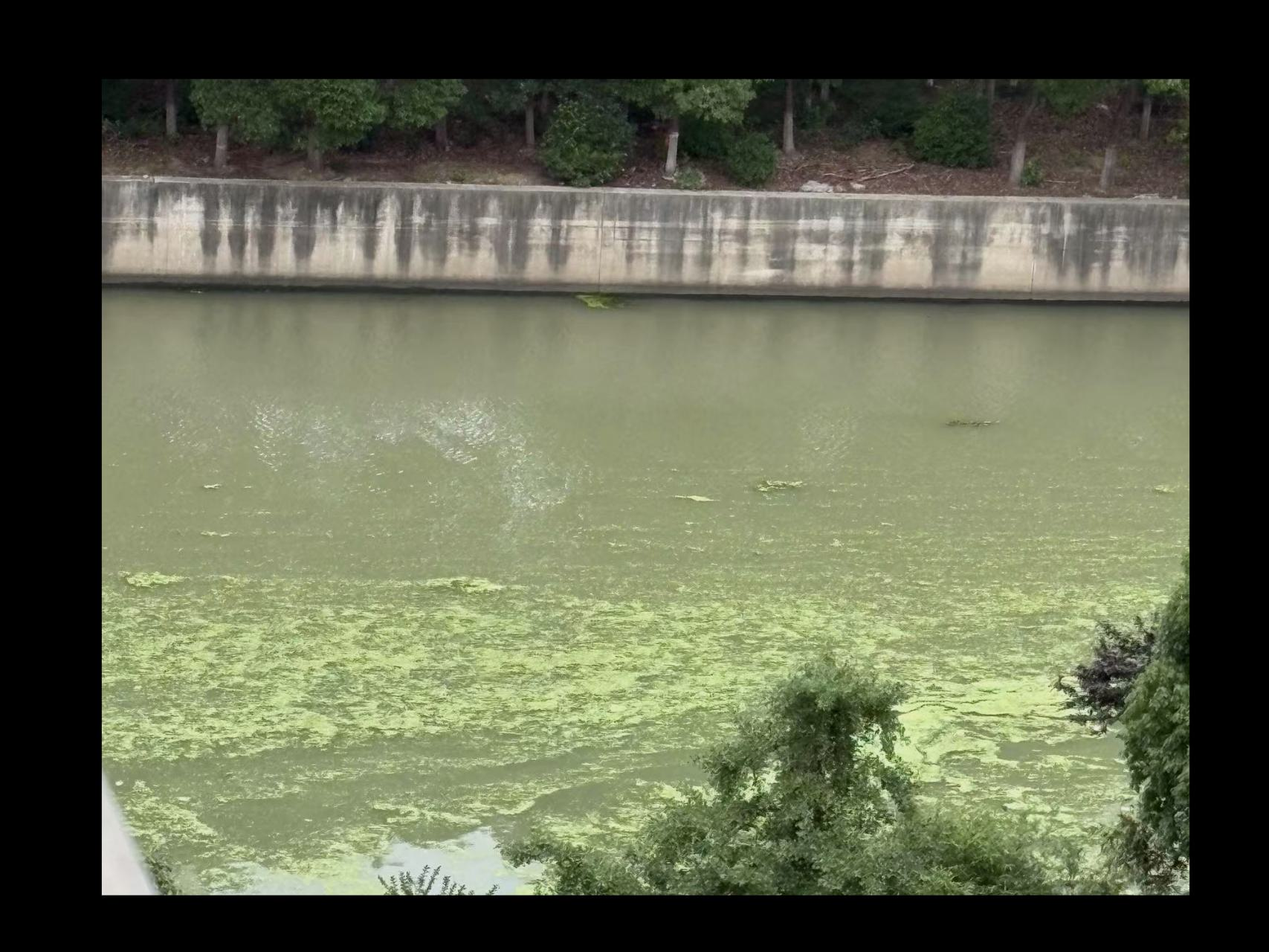Other: (105, 597, 762, 753), (903, 679, 1055, 760), (752, 472, 806, 498), (116, 570, 187, 585), (943, 415, 1007, 431), (433, 576, 492, 590), (579, 295, 616, 313)
